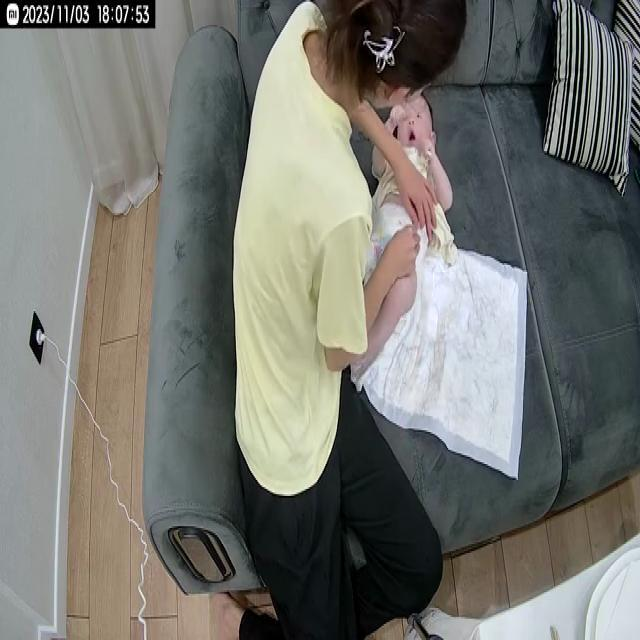baby: (354, 85, 451, 402)
